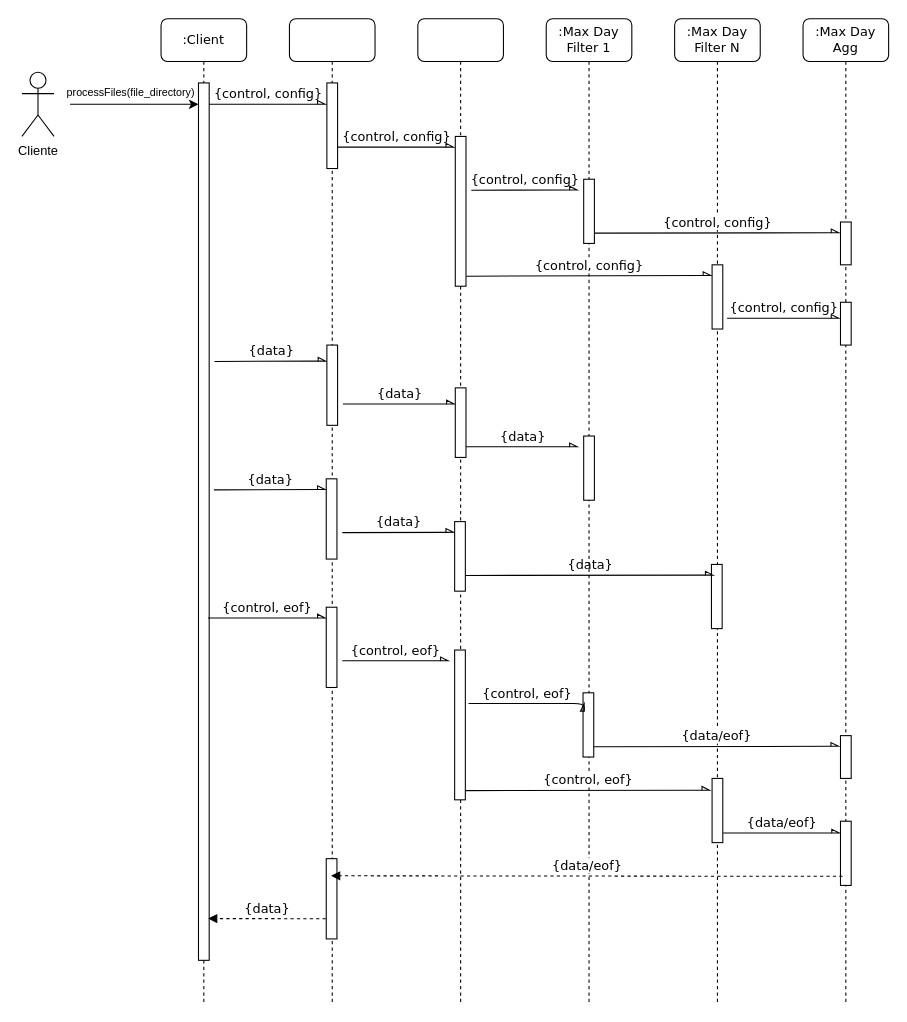
Image size: 907x1022. Some labels were removed from this diagram. Each missing label, with the centre of its shape:
":Likes Filter" goes at point (460, 510).
":Request Listener" goes at point (331, 510).
